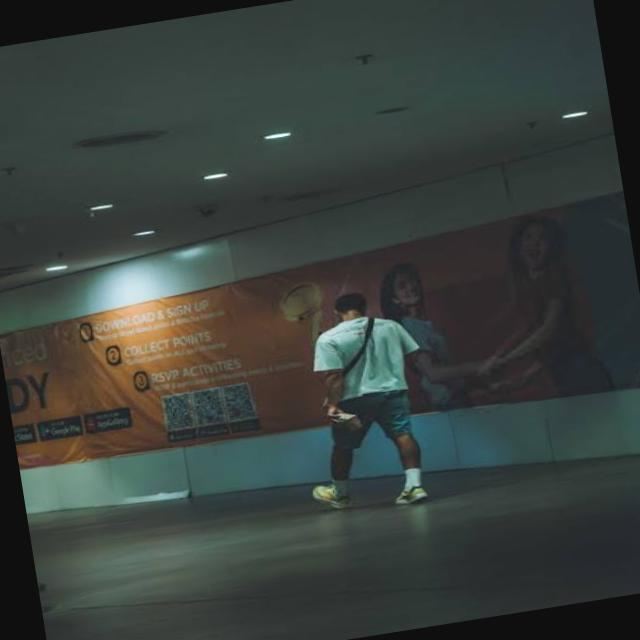Person: (276, 276, 448, 532)
